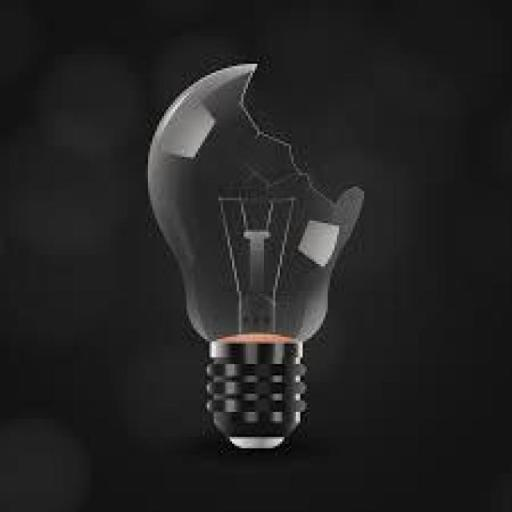glass: (129, 46, 373, 361)
